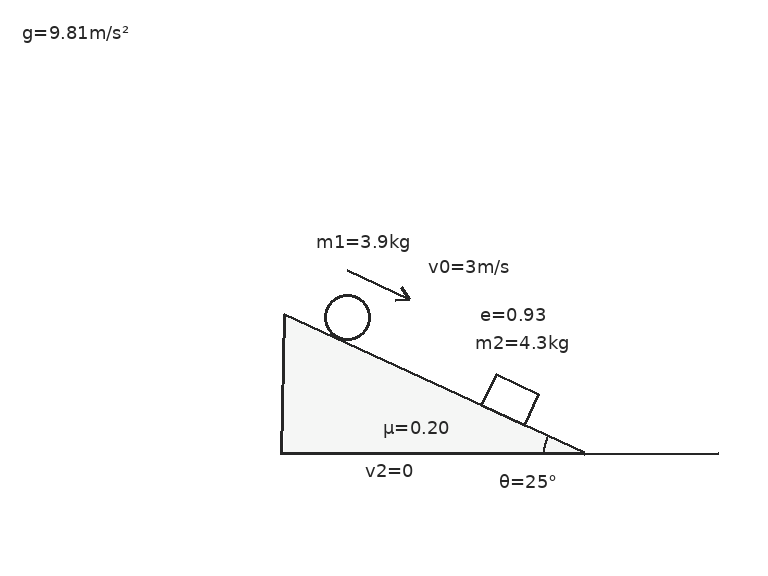ball: (322, 292, 372, 342)
block: (480, 373, 540, 427)
ramp: (282, 311, 586, 455)
